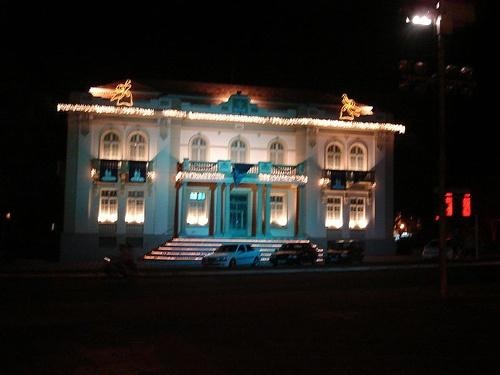car: (202, 241, 263, 272), (271, 241, 319, 267), (324, 239, 368, 267)
